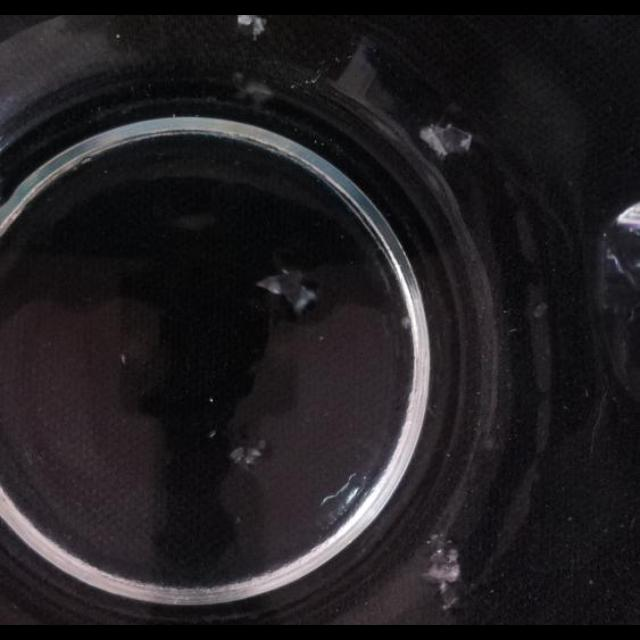Fibre: (420, 537, 464, 611), (258, 266, 320, 314), (524, 294, 552, 398), (420, 123, 470, 159), (231, 440, 267, 468), (532, 302, 546, 318)
microbeads: (238, 16, 268, 40), (401, 315, 412, 329), (208, 430, 216, 440), (120, 352, 126, 364), (208, 397, 214, 403)
